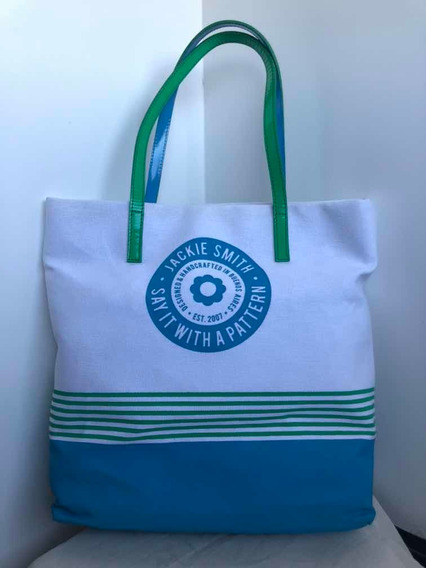cartera: (39, 20, 383, 537)
